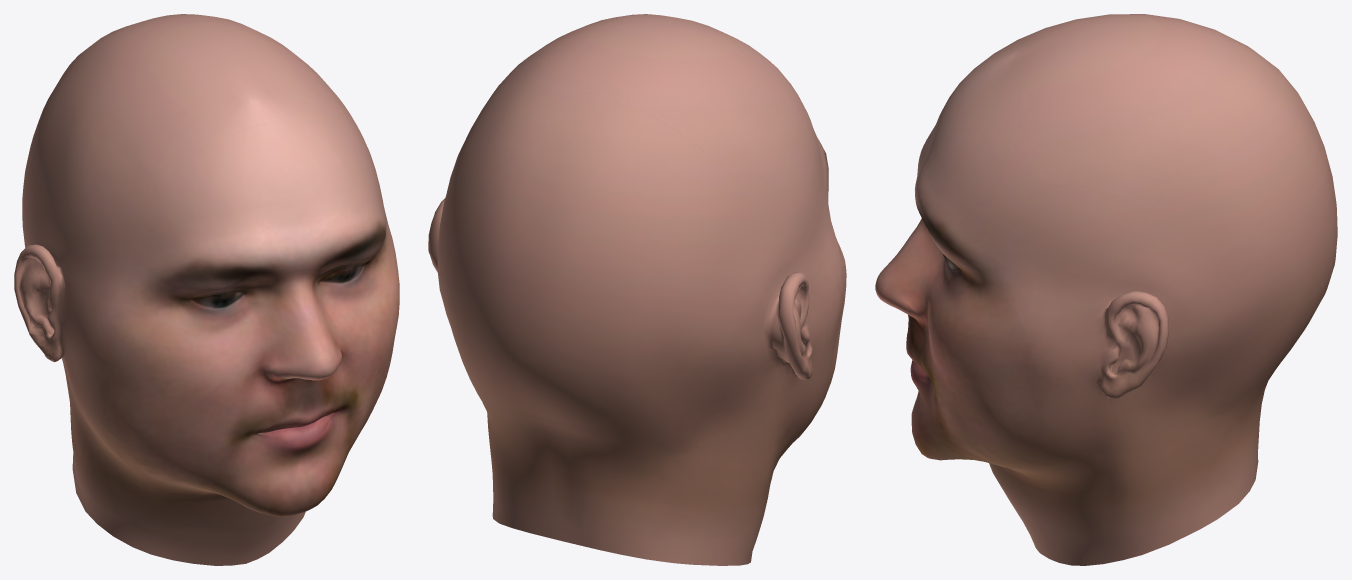
3 renders of one model, left to right at view 1: azimuth 30°, elevation 25°; view 2: azimuth 150°, elevation 25°; view 3: azimuth 270°, elevation 25°, orthographic. The views are drawn at different scales.
Visible parts, largest first — view 1: HeadHires; view 2: HeadHires; view 3: HeadHires.
Part boxes in pixels (x1=…): HeadHires: x1=14, y1=14, x2=399, y2=565; HeadHires: x1=428, y1=14, x2=846, y2=565; HeadHires: x1=875, y1=14, x2=1337, y2=565.
Bounding box in the file's own units: 203 × 283 × 231.
